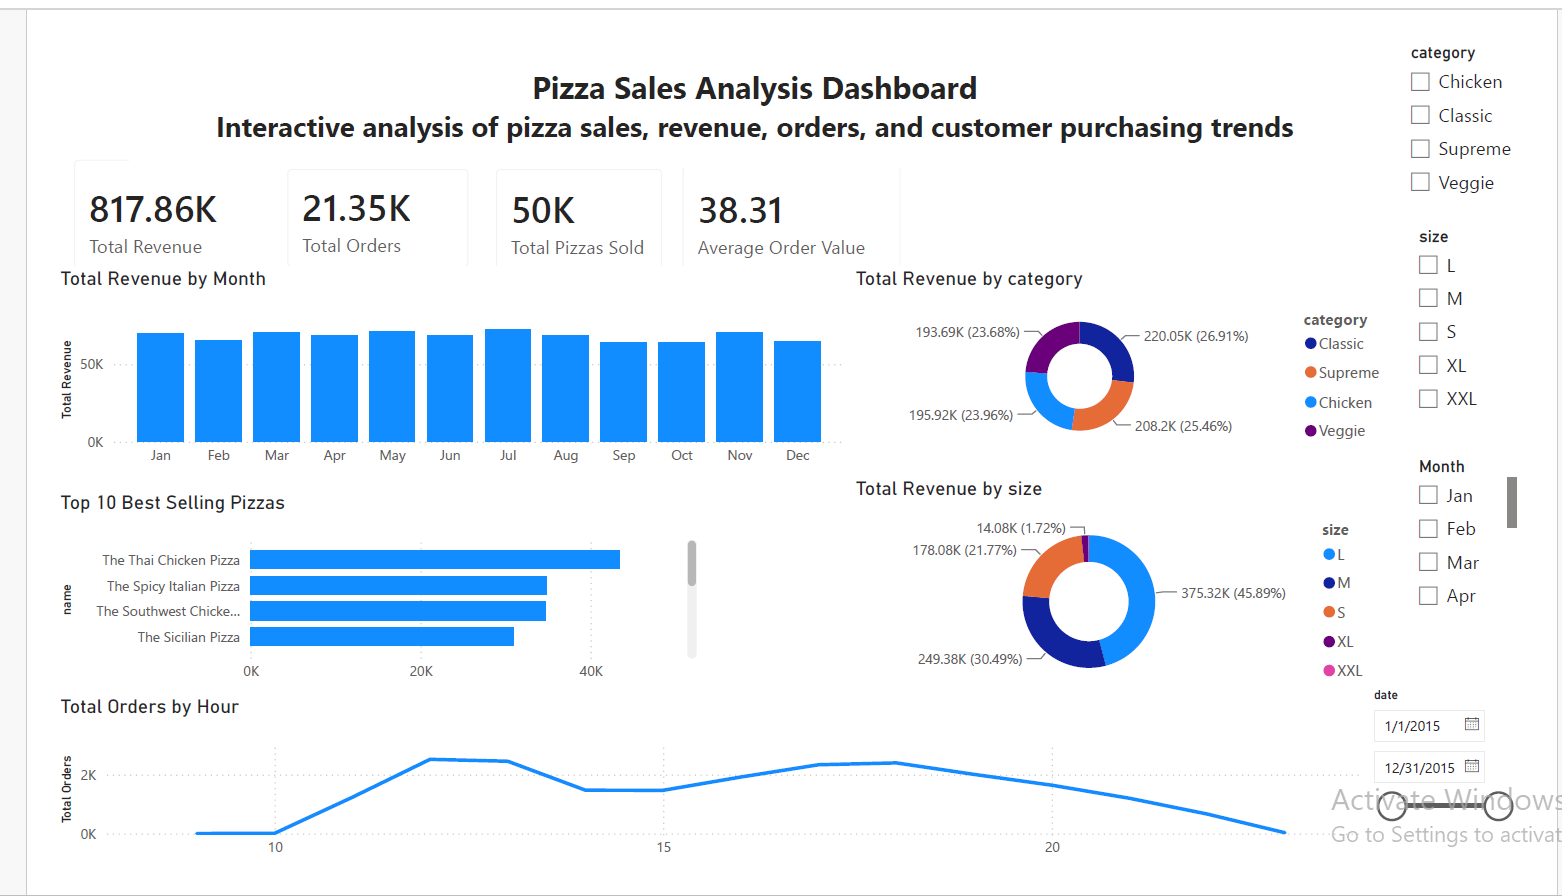

Layout of this report page (visuals, bound fields, positions):
{"tool":"powerbi","page":{"name":"Page 1","canvas":[1280,720],"ordinal":0},"visuals":[{"type":"cardVisual","fields":{"Data":["order_details.Total Revenue"]},"box":[0,89.1,204,137.6],"z":0},{"type":"cardVisual","fields":{"Data":["order_details.Total Orders"]},"box":[184.6,97.2,191.1,119.8],"z":1},{"type":"cardVisual","fields":{"Data":["order_details.Total Pizzas Sold"]},"box":[365.9,97.2,178.1,123.1],"z":2},{"type":"cardVisual","fields":{"Data":["order_details.Average Order Value"]},"box":[527.9,93.9,223.5,129.5],"z":3},{"type":"textbox","box":[64.8,19.4,1084.9,93.9],"z":4},{"type":"clusteredColumnChart","fields":{"Category":["orders.Month"],"Y":["order_details.Total Revenue"]},"box":[0,199.2,689.8,181.4],"z":5},{"type":"donutChart","fields":{"Category":["pizza_types.category"],"Y":["order_details.Total Revenue"]},"box":[689.8,199.2,474.4,160.3],"z":6},{"type":"clusteredBarChart","title":"Top 10 Best Selling Pizzas","fields":{"Category":["pizza_types.name"],"Y":["order_details.Total Revenue"]},"box":[0,393.5,561.9,174.9],"z":7},{"type":"donutChart","fields":{"Category":["pizzas.size"],"Y":["order_details.Total Revenue"]},"box":[689.8,380.5,459.9,187.8],"z":8},{"type":"lineChart","fields":{"Category":["orders.Hour"],"Y":["order_details.Total Orders"]},"box":[0,570,1149.7,150.6],"z":9},{"type":"slicer","fields":{"Values":["pizza_types.category"]},"box":[1164.2,0,116.6,158.7],"z":10},{"type":"slicer","fields":{"Values":["pizzas.size"]},"box":[1170.7,158.7,103.6,183],"z":11},{"type":"slicer","fields":{"Values":["orders.Month"]},"box":[1170.7,359.5,103.6,150.6],"z":12},{"type":"slicer","fields":{"Values":["orders.date"]},"box":[1131.8,558.6,142.5,161.9],"z":13}]}

Visuals, with their boxes on the page's 1280x720 design canvas (x1, y1, x2, y2). These are canvas units, not pixel positions in the 1562x896 screenshot, which may show the page scaled, cropped or inside an application window:
cardVisual - order_details.Total Revenue: bbox(0, 89, 204, 227)
cardVisual - order_details.Total Orders: bbox(185, 97, 376, 217)
cardVisual - order_details.Total Pizzas Sold: bbox(366, 97, 544, 220)
cardVisual - order_details.Average Order Value: bbox(528, 94, 751, 223)
textbox: bbox(65, 19, 1150, 113)
clusteredColumnChart - orders.Month x order_details.Total Revenue: bbox(0, 199, 690, 381)
donutChart - pizza_types.category x order_details.Total Revenue: bbox(690, 199, 1164, 360)
"Top 10 Best Selling Pizzas" clusteredBarChart: bbox(0, 394, 562, 568)
donutChart - pizzas.size x order_details.Total Revenue: bbox(690, 380, 1150, 568)
lineChart - orders.Hour x order_details.Total Orders: bbox(0, 570, 1150, 721)
slicer - pizza_types.category: bbox(1164, 0, 1281, 159)
slicer - pizzas.size: bbox(1171, 159, 1274, 342)
slicer - orders.Month: bbox(1171, 360, 1274, 510)
slicer - orders.date: bbox(1132, 559, 1274, 720)
